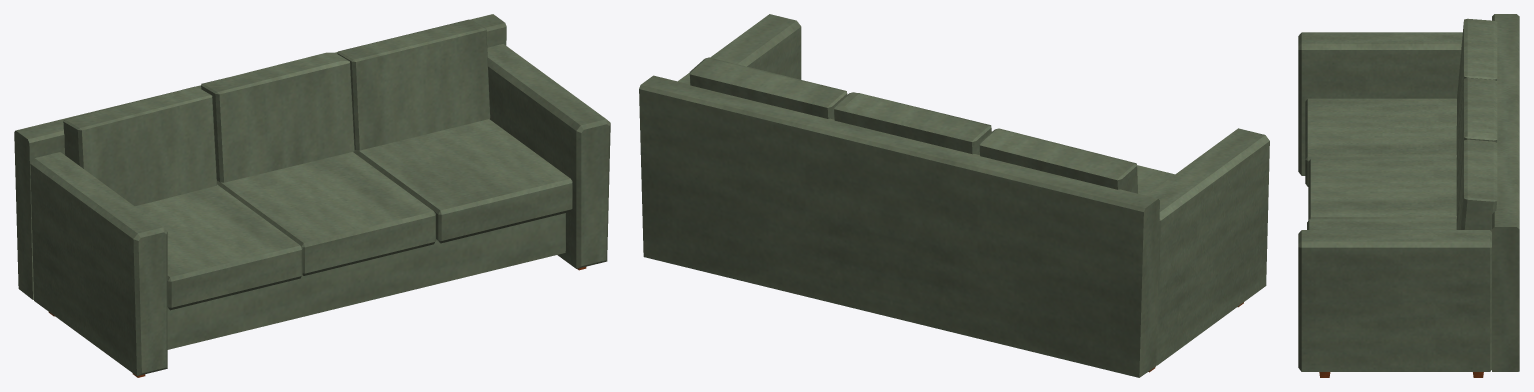
The model's file is couch_large_green.obj.
3 views of the same model, side by side, from view 1: azimuth 30°, elevation 25°; view 2: azimuth 150°, elevation 25°; view 3: azimuth 270°, elevation 25° (orthographic). The views are drawn at different scales.
Parts seen in each view (by area): view 1: couch_large_green; view 2: couch_large_green; view 3: couch_large_green.
Boxes of the visible parts, x1,y1,x2,y2 form: couch_large_green: (14, 14, 610, 377); couch_large_green: (639, 14, 1269, 377); couch_large_green: (1298, 14, 1519, 377).
Bounding box in the file's own units: 3.16 × 1.19 × 1.39.
